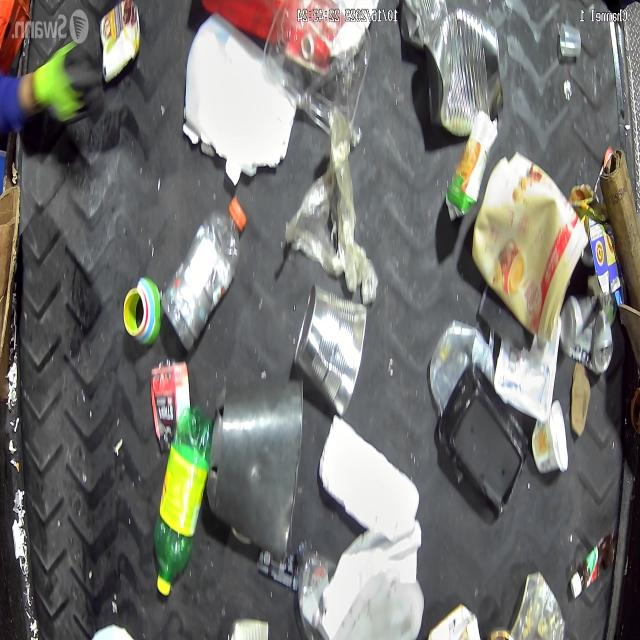can: (422, 10, 502, 134), (292, 286, 368, 416), (561, 294, 613, 374), (99, 0, 142, 86), (399, 0, 449, 47), (223, 616, 269, 640)
milk_jug: (324, 516, 422, 639)
non_white_jug: (471, 151, 588, 341)
plastic_bottle: (164, 199, 245, 351), (154, 403, 212, 596), (296, 538, 338, 640)
